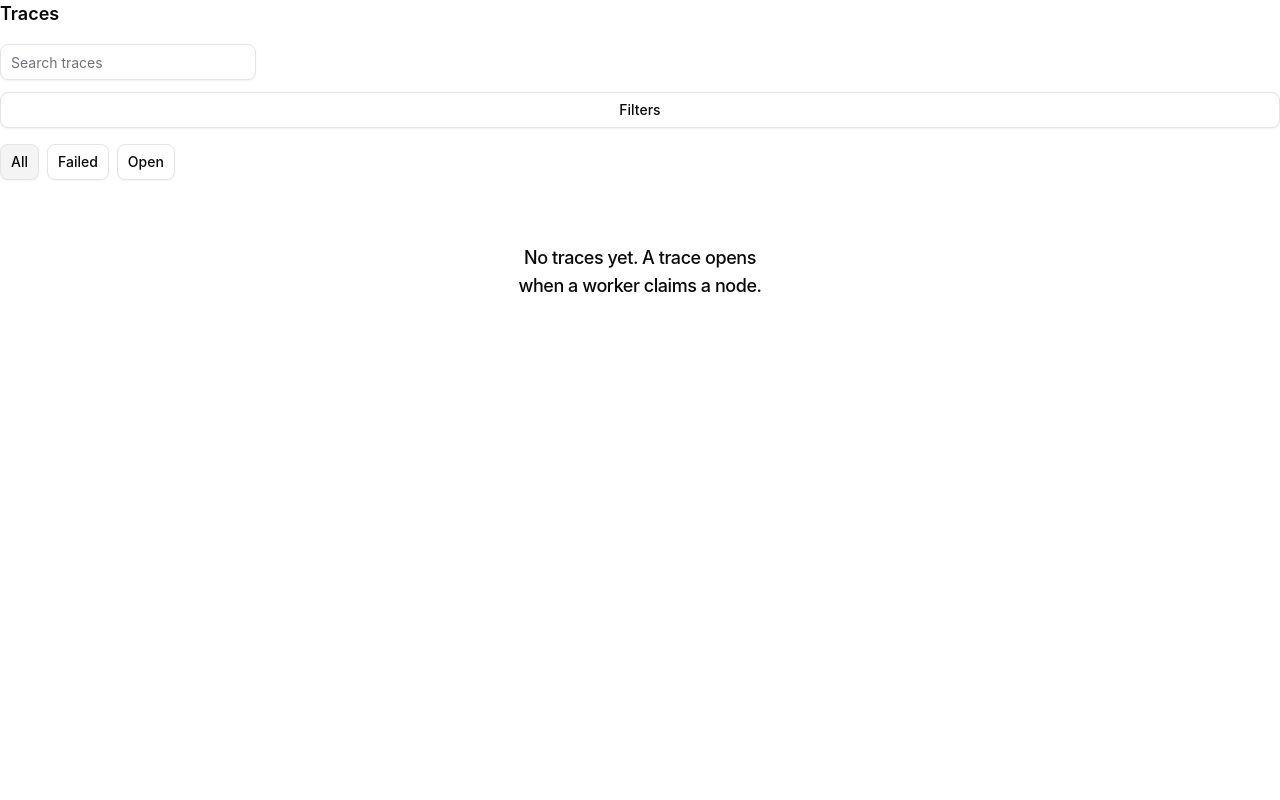
Test: TracesScreen › applies the cause category of the filter sheet only on Apply
The image size is (1280, 800).
Click the button "Filters": point(640, 110) [0, 92, 1279, 128]
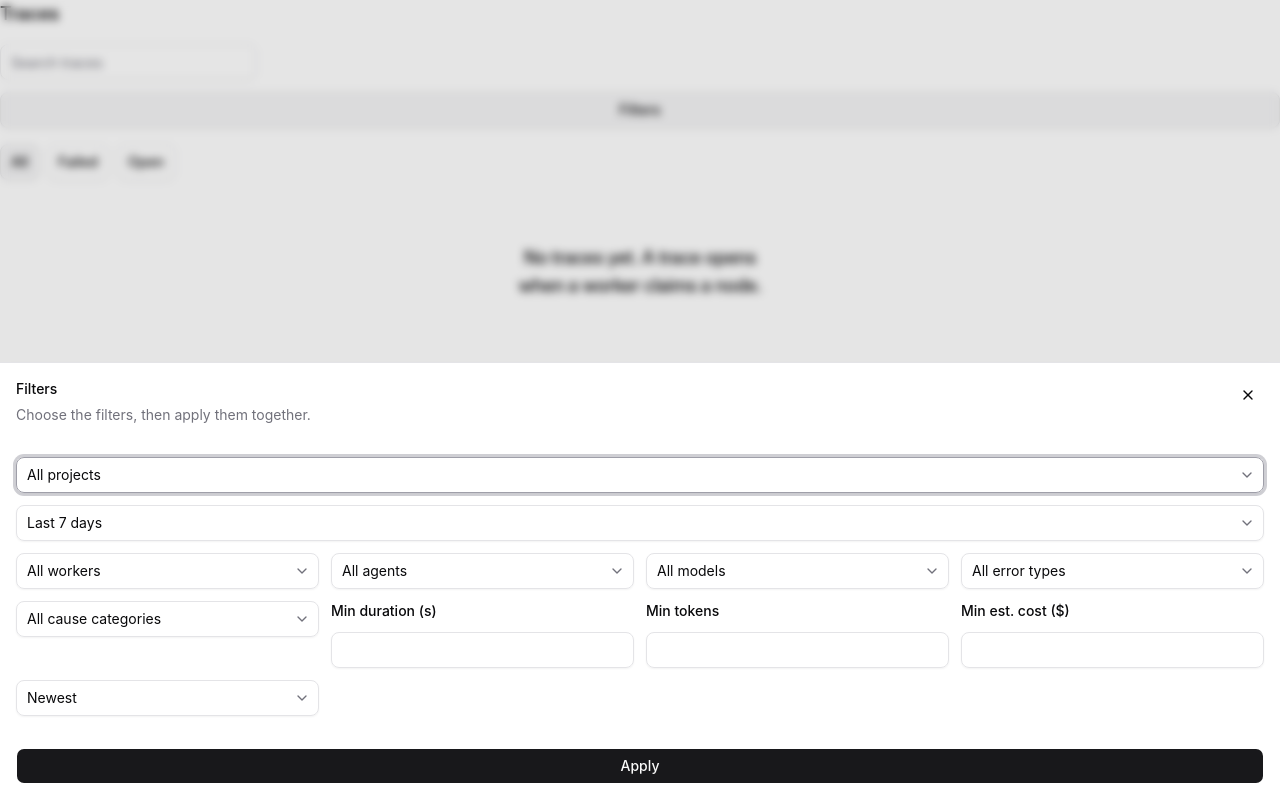
Click the dropdown named "Cause category": point(94, 618) [16, 601, 319, 637]
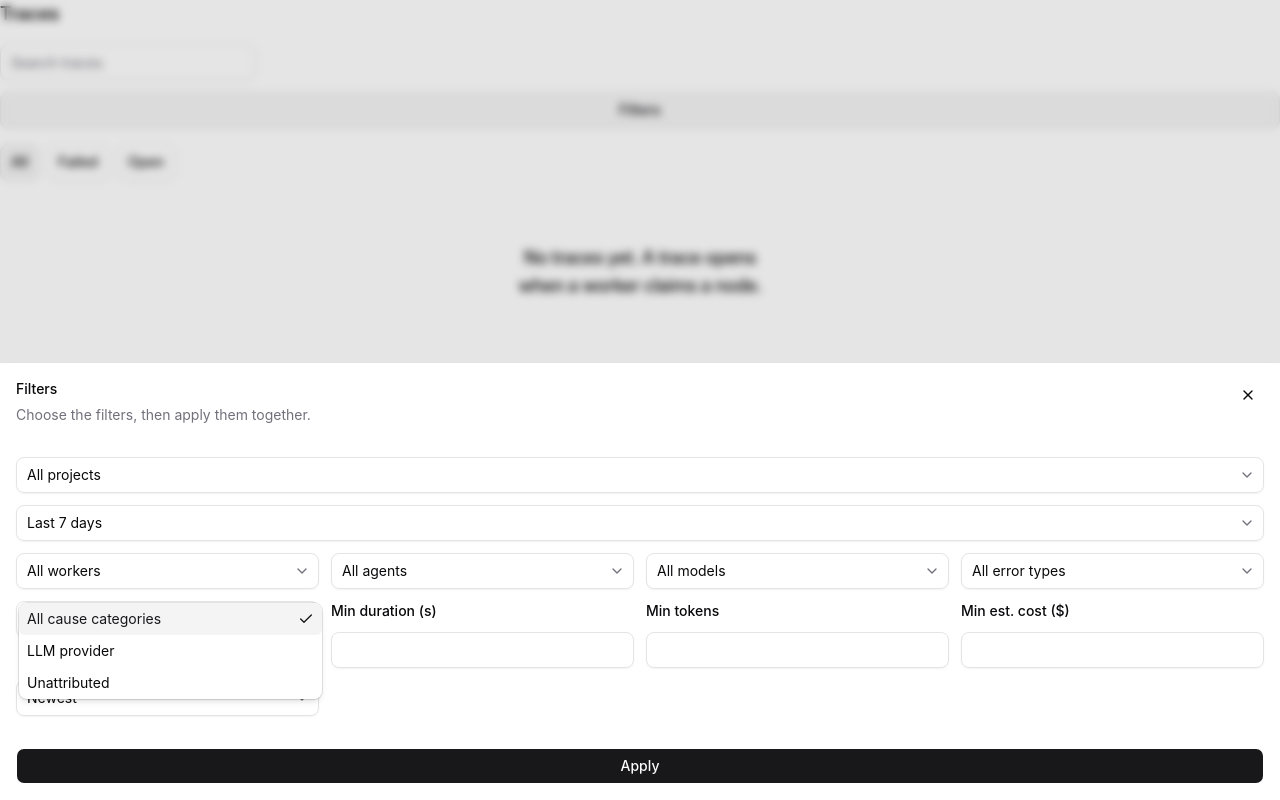
Click the option "Unattributed": point(68, 682) [27, 674, 110, 691]
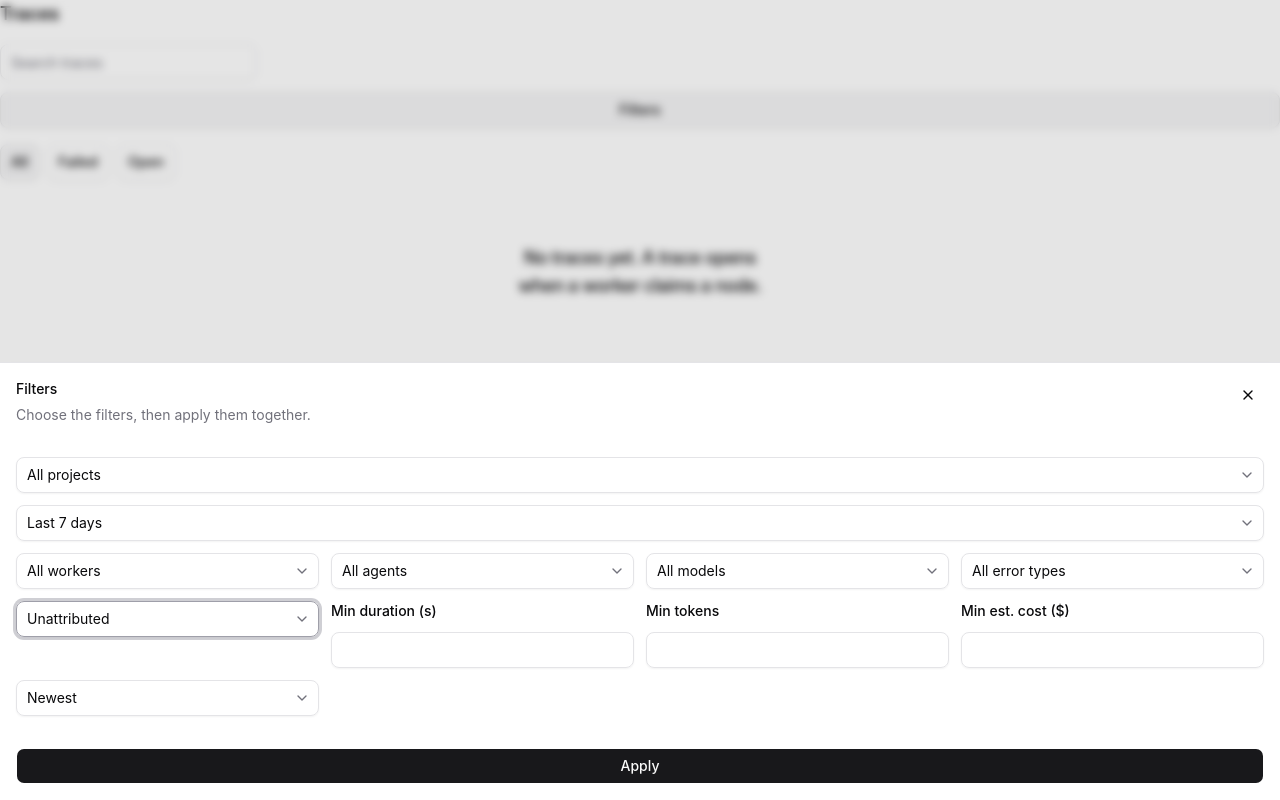
In the field labelled "Min tokens": point(798, 650) [646, 632, 949, 668], type "100"
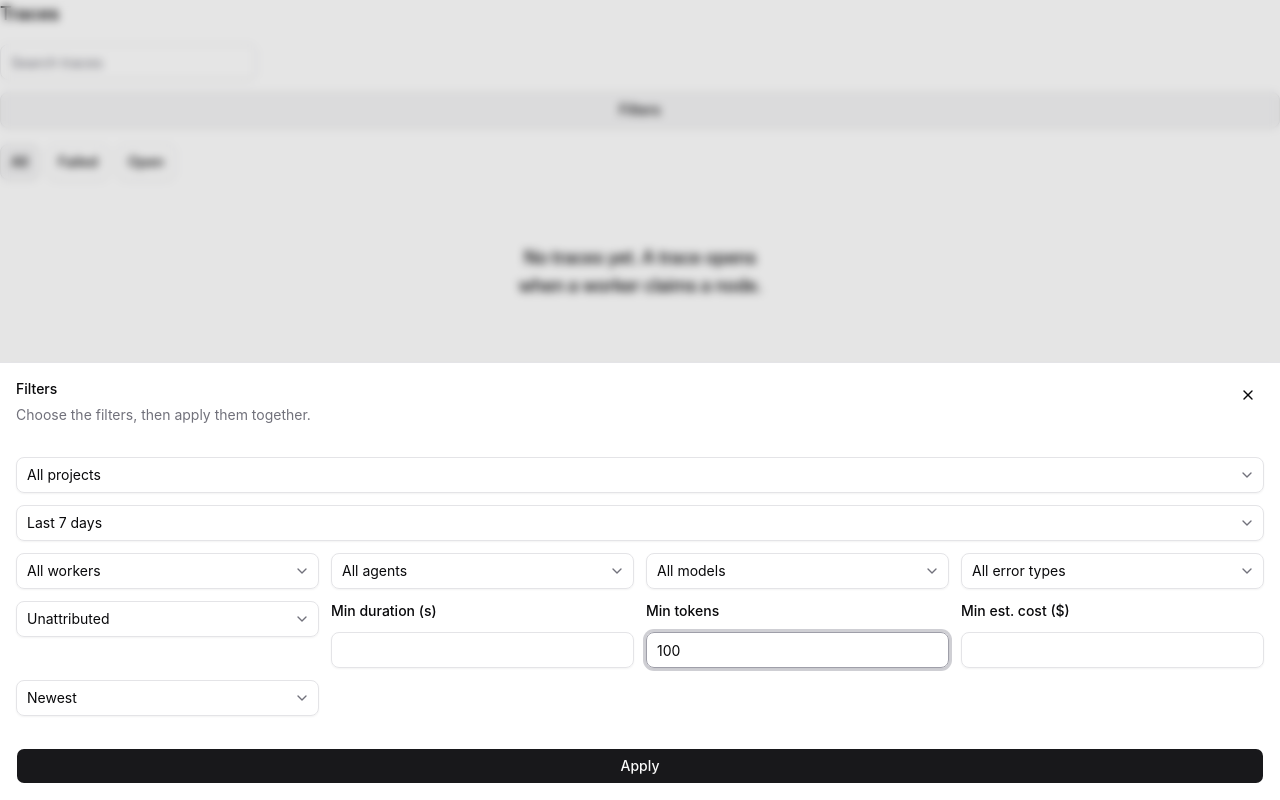
Click the button "Apply": point(640, 766) [16, 748, 1264, 784]
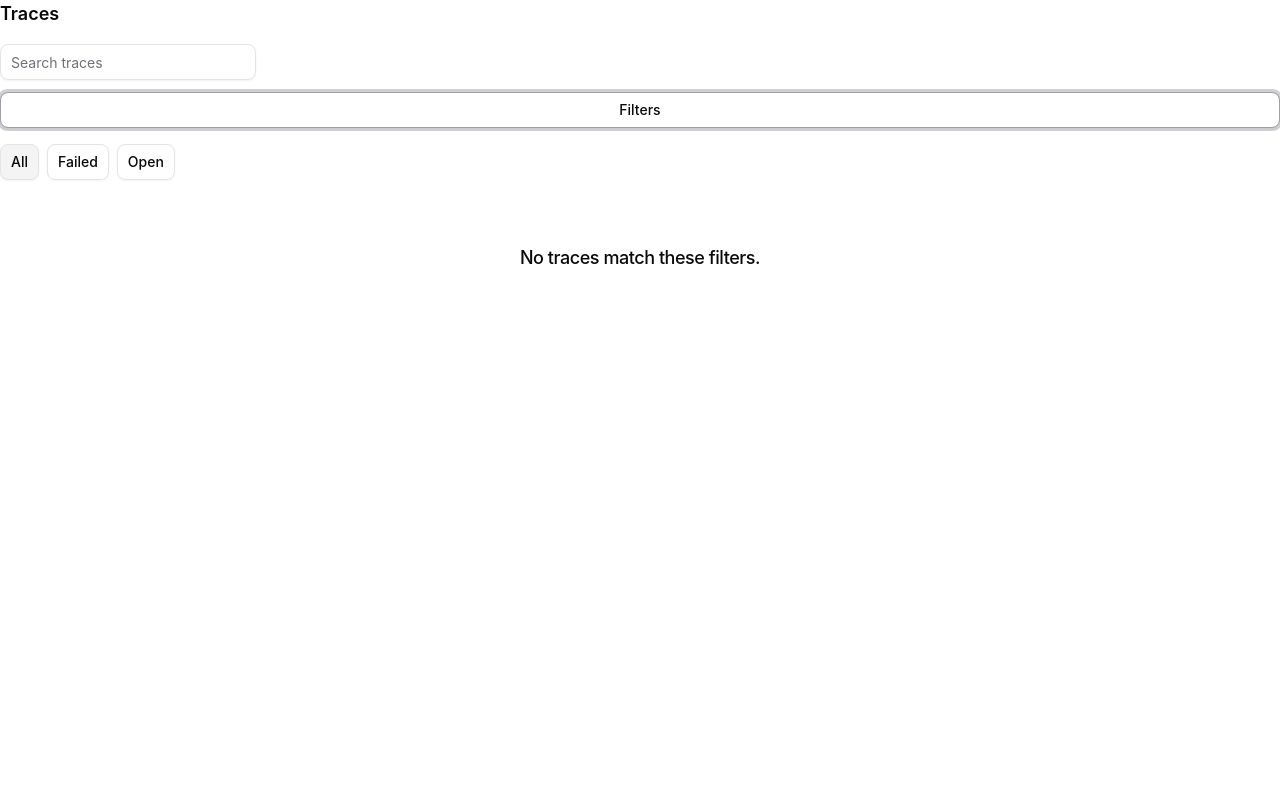
Expected: the text "apply" is gone
